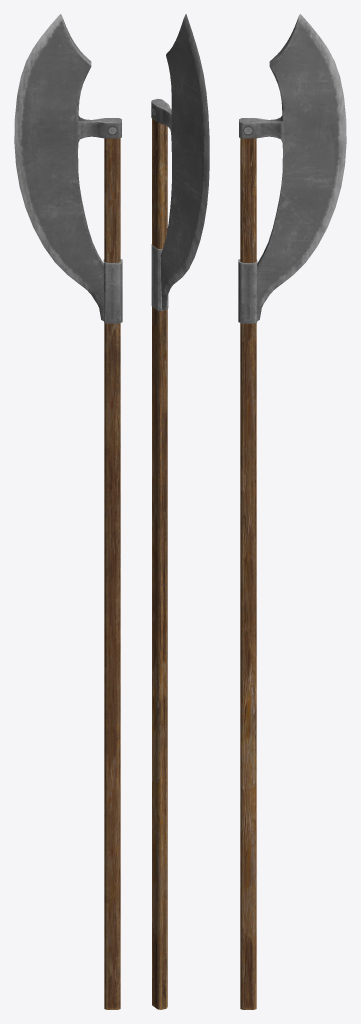
Rendered from Battle_Axe_01.fbx.
The picture shows the model from 3 angles, left to right: view 1: azimuth 90°, elevation 25°; view 2: azimuth 210°, elevation 25°; view 3: azimuth 270°, elevation 25°; orthographic projection.
Parts seen in each view (by area): view 1: Battle_Axe_01_LOD0; view 2: Battle_Axe_01_LOD0; view 3: Battle_Axe_01_LOD0.
Part boxes in pixels (bbox=[...]): Battle_Axe_01_LOD0: bbox=[14, 14, 122, 1009]; Battle_Axe_01_LOD0: bbox=[151, 14, 209, 1009]; Battle_Axe_01_LOD0: bbox=[238, 14, 346, 1009].
Size of what is drawn, in the model's own units: 2.46 by 194 by 19.18.
